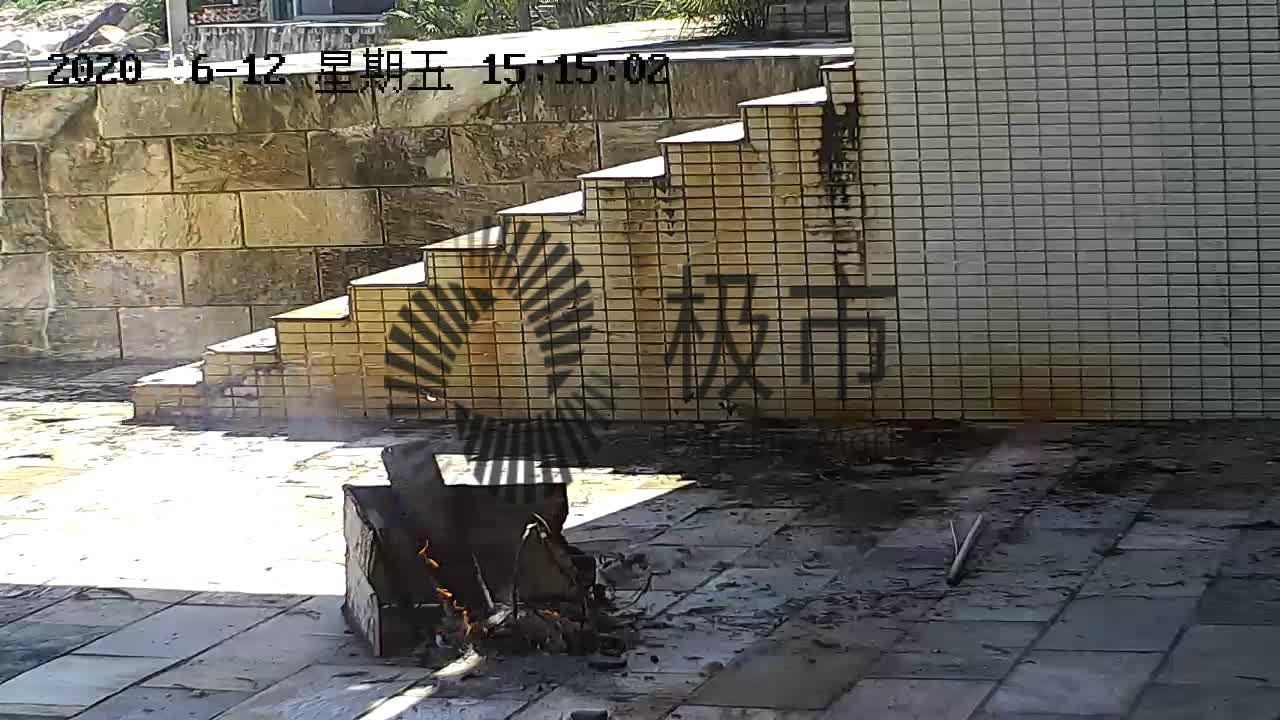fire: (414, 537, 476, 641)
